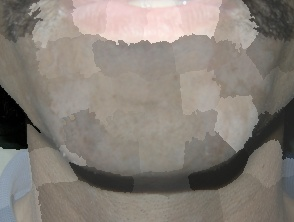vitiligo: (27, 0, 282, 174)
